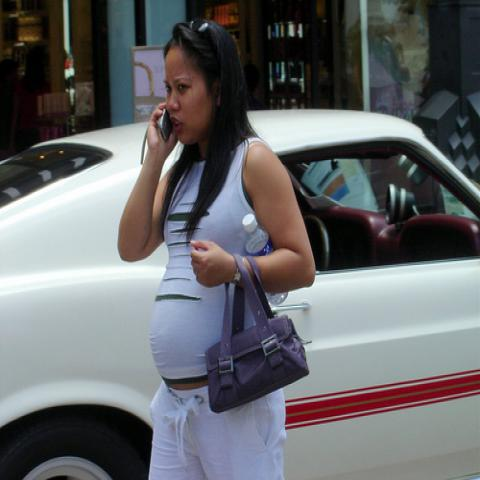car: (0, 110, 480, 473)
